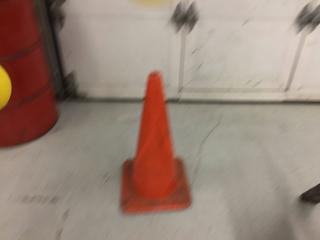power_cell: (1, 61, 16, 112)
